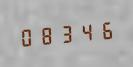eight: (37, 22, 55, 47)
four: (75, 19, 93, 44)
six: (94, 17, 112, 42)
three: (56, 20, 74, 46)
zero: (18, 24, 36, 49)
